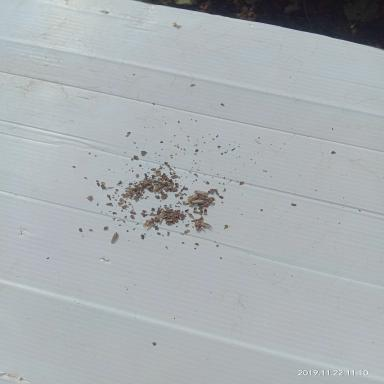pbw: (193, 219, 212, 231), (186, 193, 199, 203), (144, 218, 154, 228), (110, 232, 118, 243), (194, 190, 208, 196), (154, 179, 167, 185), (192, 199, 205, 204)
